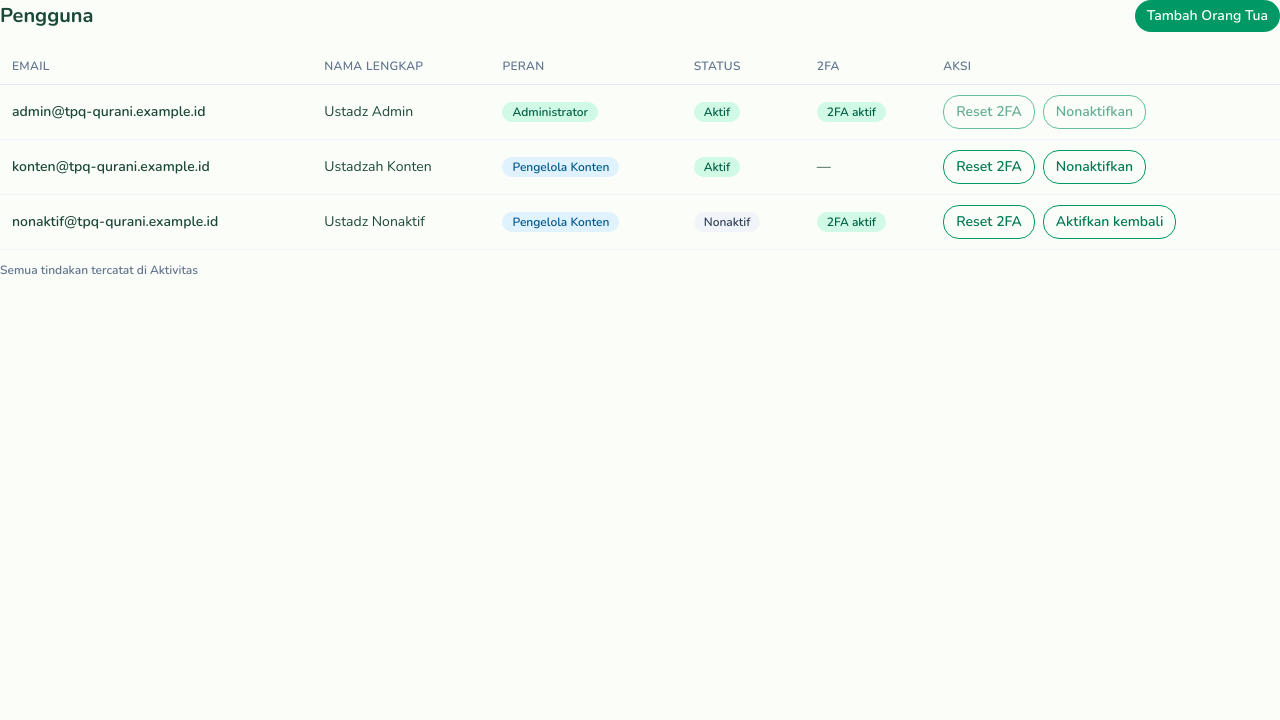
Test case: Users management › resets 2FA after confirmation, POSTs with CSRF and shows the success message
The width and height of the screenshot is (1280, 720).
Expected: the text "admin@tpq-qurani.example.id" is shown, [0, 84, 312, 140]
Step 1. Click the button "Reset 2FA" in the row of "konten@tpq-qurani.example.id" → (989, 167), box [943, 150, 1035, 184]
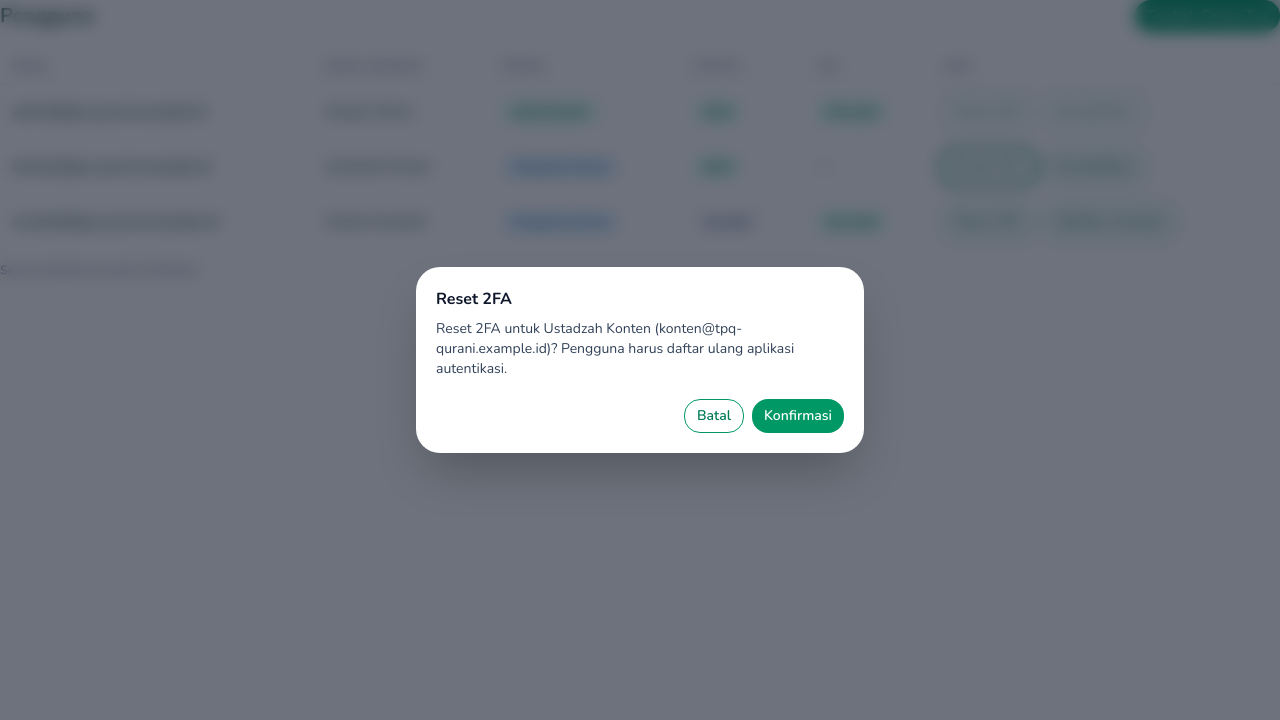
Result: the text "daftar ulang" is shown at [436, 319, 794, 378]
Step 2. Click the button "Konfirmasi" → (798, 416), box [752, 399, 844, 433]
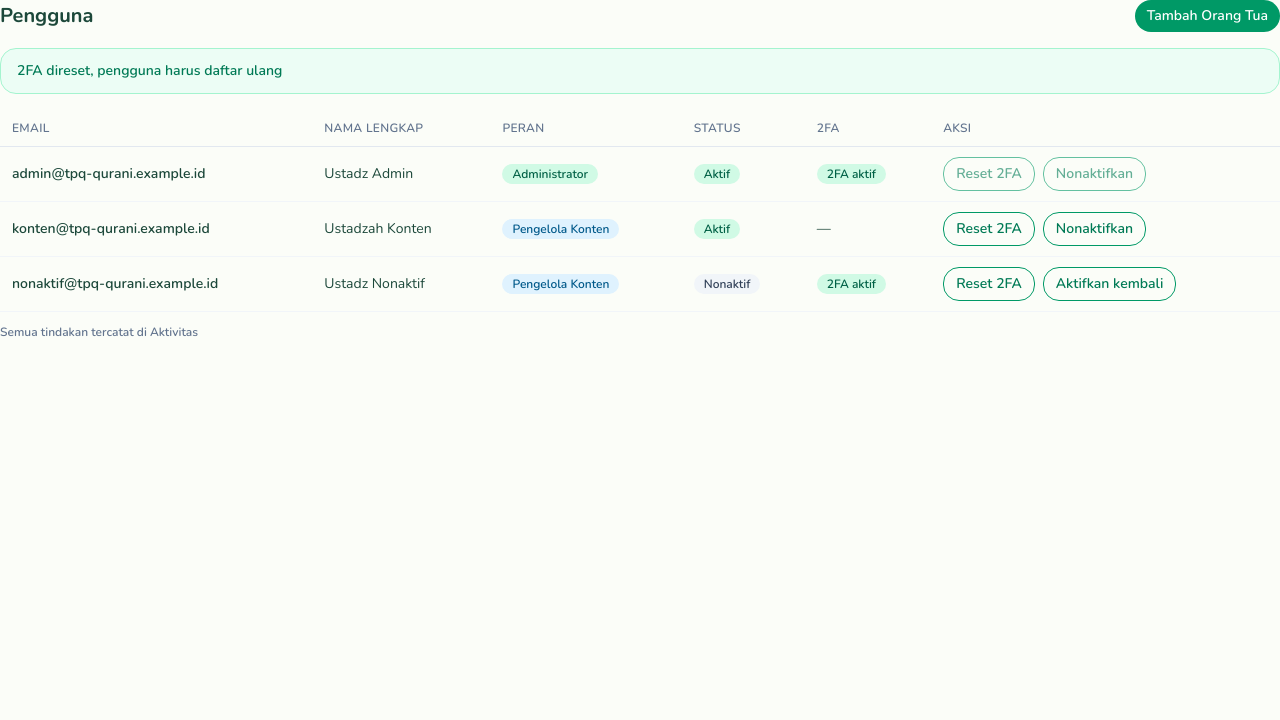
Result: the text "2FA direset, pengguna harus daftar ulang" is shown at [0, 48, 1279, 94]
